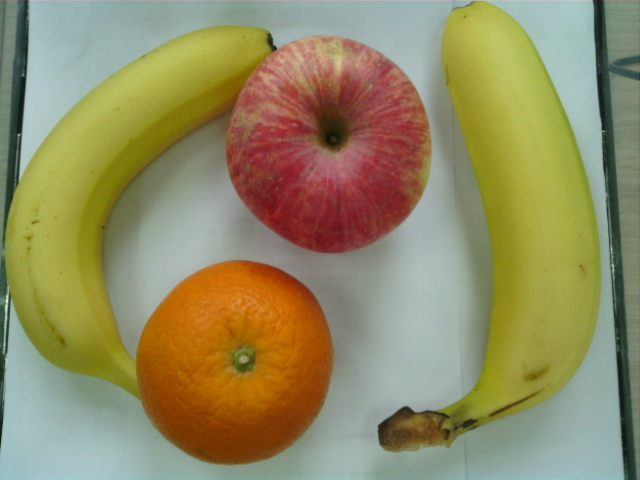normal_apple: (225, 31, 431, 257)
normal_banana: (6, 26, 275, 360), (438, 2, 602, 445)
normal_orange: (135, 262, 334, 467)
